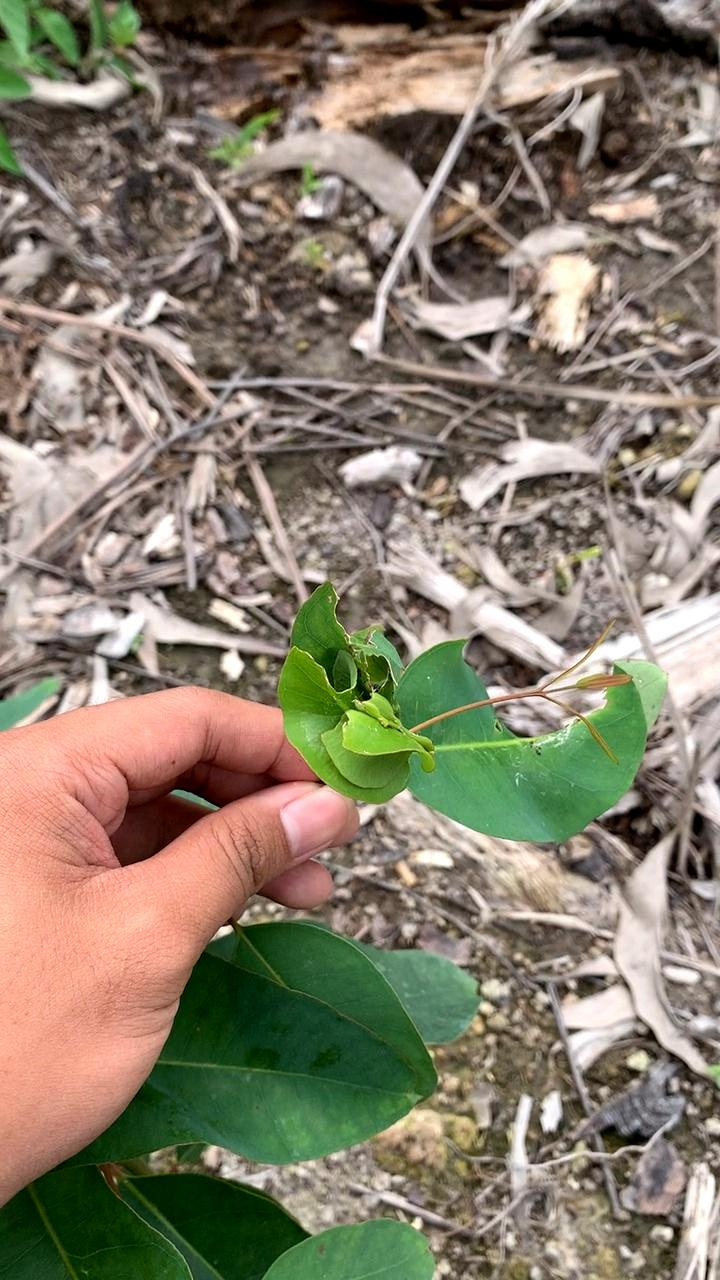Leaf Roller - Leaf: (257, 571, 453, 823)
